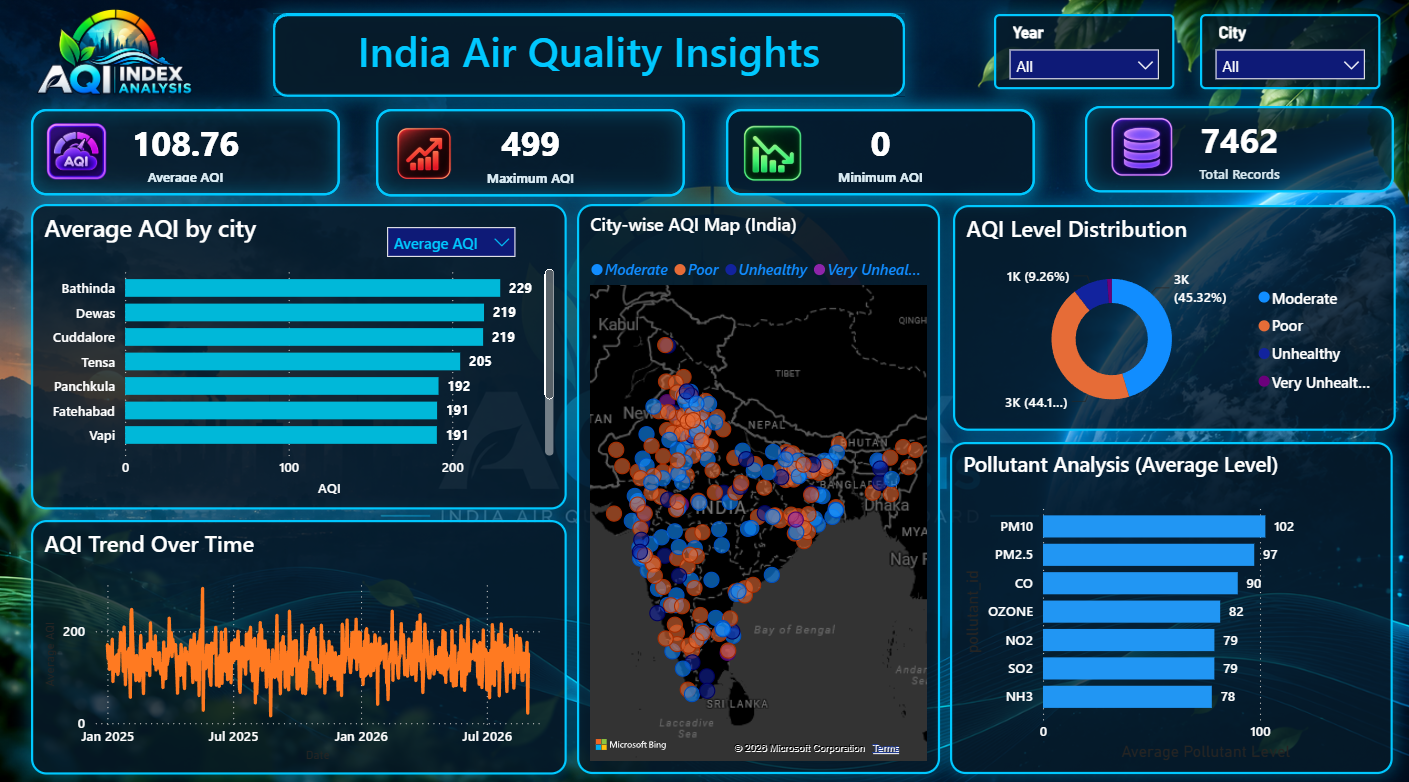

Layout of this report page (visuals, bound fields, positions):
{"tool":"powerbi","page":{"name":"National AQI Overview","canvas":[1280,720],"ordinal":0},"visuals":[{"type":"shape","box":[251.5,14.4,570.9,74.9],"z":0},{"type":"card","title":"Average AQI","fields":{"Values":["Fact_AQI.Average AQI"]},"box":[32.1,101.2,279.1,78],"z":1000},{"type":"card","title":"Average AQI","fields":{"Values":["Fact_AQI.Maximum AQI"]},"box":[344.3,101.2,279.1,78.8],"z":2000},{"type":"card","title":"Average AQI","fields":{"Values":["Fact_AQI.Minimum AQI"]},"box":[660.4,101.2,279.1,77.8],"z":3000},{"type":"shape","box":[251.5,15.5,570.9,74.9],"z":4000},{"type":"image","box":[0,0,213,99.2],"z":5000},{"type":"slicer","fields":{"Values":["Dim_Date.Year"]},"box":[902.8,15.5,163.4,68.1],"z":6000},{"type":"textbox","title":"India Air Quality Insights","box":[284.4,23.7,503.8,50.6],"z":7000},{"type":"image","box":[344.3,95.3,86.6,91.7],"z":8000},{"type":"card","title":"Average AQI","fields":{"Values":["Fact_AQI.Total Records"]},"box":[984.3,98.2,279.1,77.8],"z":9000},{"type":"image","box":[643.9,110.9,117.5,61.8],"z":10000},{"type":"card","title":"Average AQI","fields":{"Values":["Fact_AQI.Total Records"]},"box":[984.3,98.2,279.3,78],"z":11000},{"type":"image","box":[970.7,104.1,129.9,64.9],"z":12000},{"type":"clusteredBarChart","fields":{"Category":["Dim_Location.City"],"Y":["Fact_AQI.Average AQI"]},"box":[32.1,186.7,484.4,276.2],"z":13000},{"type":"slicer","title":"AQI Matrix","fields":{"Values":["AQI Metric.AQI Metric"]},"box":[344.3,197.4,136.2,40.9],"z":14000},{"type":"slicer","title":"City","fields":{"Values":["Dim_City_Map.city"]},"box":[1088.3,15.5,163.4,68.1],"z":15000},{"type":"map","title":"City-wise AQI Map (India)","fields":{"Category":["Dim_City_Map.city"],"Series":["Dim_City_Map.AQI_Bucket"],"Size":["CountNonNull(Dim_City_Map.City_AQI.Average AQI)"]},"box":[526,187,328,515],"z":16000},{"type":"donutChart","title":"AQI Level Distribution","fields":{"Category":["Dim_City_Map.AQI_Bucket"],"Y":["Fact_AQI.Total Records"]},"box":[865.7,187.7,399.8,204.3],"z":17000},{"type":"card","title":"Average AQI","fields":{"Values":["Fact_AQI.Maximum AQI"]},"box":[344.3,101.2,279,78.8],"z":18000},{"type":"card","title":"Average AQI","fields":{"Values":["Fact_AQI.Average AQI"]},"box":[32.1,101.2,279.1,77.8],"z":19000},{"type":"card","title":"Average AQI","fields":{"Values":["Fact_AQI.Minimum AQI"]},"box":[660,101,279,78],"z":20000},{"type":"clusteredBarChart","title":"Pollutant Analysis (Average Level)","fields":{"Category":["Dim_Pollutant.pollutant_id"],"Y":["Fact_AQI.Average Pollutant Level"]},"box":[863,402,400,300],"z":21000},{"type":"lineChart","title":"AQI Trend Over Time","fields":{"Category":["Dim_Date.Date"],"Y":["Fact_AQI.Average AQI"]},"box":[32.1,472.7,484.4,229.5],"z":22000},{"type":"image","box":[32.1,109.9,81.7,59.3],"z":23000}]}

Visuals, with their boxes in screenshot pixels (x1, y1, x2, y2), scaled from the page's 1280x720 canvas onto the 1409x782 screenshot:
shape: (x1=277, y1=16, x2=905, y2=97)
"Average AQI" card: (x1=35, y1=110, x2=343, y2=195)
"Average AQI" card: (x1=379, y1=110, x2=686, y2=195)
"Average AQI" card: (x1=727, y1=110, x2=1034, y2=194)
shape: (x1=277, y1=17, x2=905, y2=98)
image: (x1=0, y1=0, x2=234, y2=108)
slicer - Dim_Date.Year: (x1=994, y1=17, x2=1174, y2=91)
"India Air Quality Insights" textbox: (x1=313, y1=26, x2=868, y2=81)
image: (x1=379, y1=104, x2=474, y2=203)
"Average AQI" card: (x1=1083, y1=107, x2=1391, y2=191)
image: (x1=709, y1=120, x2=838, y2=188)
"Average AQI" card: (x1=1083, y1=107, x2=1391, y2=191)
image: (x1=1069, y1=113, x2=1212, y2=184)
clusteredBarChart - Dim_Location.City x Fact_AQI.Average AQI: (x1=35, y1=203, x2=569, y2=503)
"AQI Matrix" slicer: (x1=379, y1=214, x2=529, y2=259)
"City" slicer: (x1=1198, y1=17, x2=1378, y2=91)
"City-wise AQI Map (India)" map: (x1=579, y1=203, x2=940, y2=762)
"AQI Level Distribution" donutChart: (x1=953, y1=204, x2=1393, y2=426)
"Average AQI" card: (x1=379, y1=110, x2=686, y2=195)
"Average AQI" card: (x1=35, y1=110, x2=343, y2=194)
"Average AQI" card: (x1=727, y1=110, x2=1034, y2=194)
"Pollutant Analysis (Average Level)" clusteredBarChart: (x1=950, y1=437, x2=1390, y2=762)
"AQI Trend Over Time" lineChart: (x1=35, y1=513, x2=569, y2=763)
image: (x1=35, y1=119, x2=125, y2=184)
